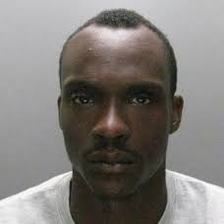no_mask: (63, 37, 171, 196)
